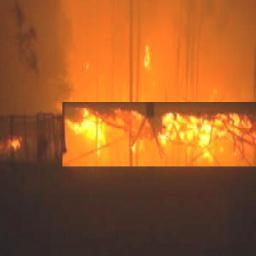Low smoke: (5, 0, 256, 163)
Medium fire: (53, 95, 256, 172)
